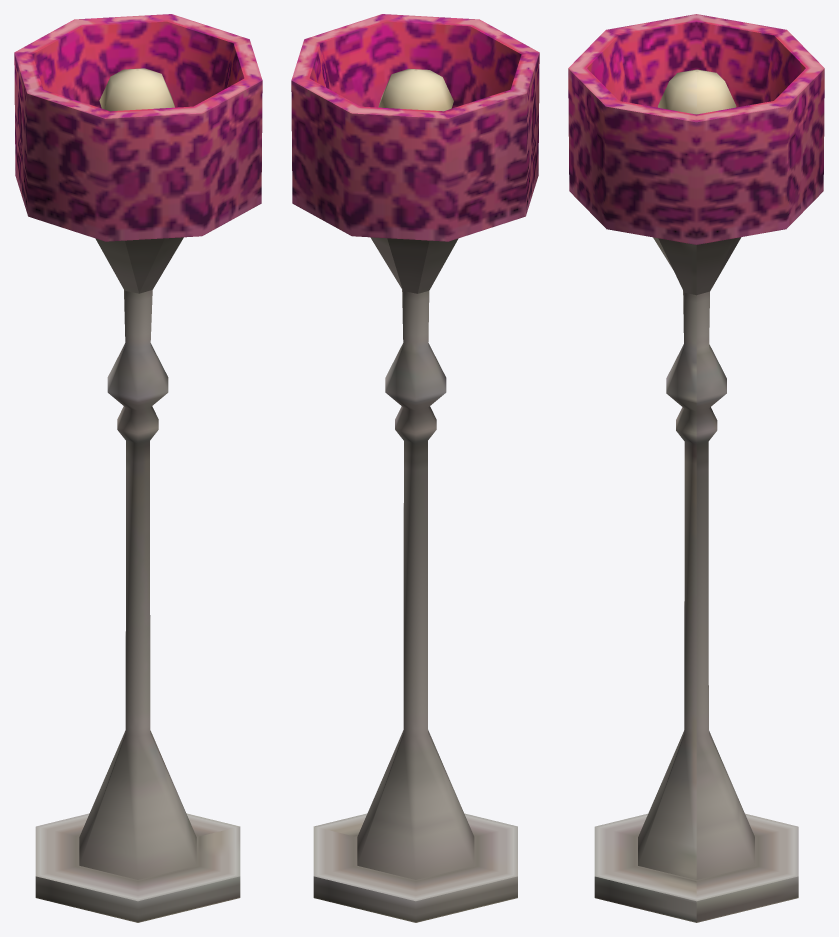
The model's file is furni_0200085_02.FBX.
The picture shows the model from 3 angles, left to right: view 1: azimuth 30°, elevation 25°; view 2: azimuth 150°, elevation 25°; view 3: azimuth 270°, elevation 25°; orthographic projection.
Visible parts, largest first — view 1: furni_0200085_02; view 2: furni_0200085_02; view 3: furni_0200085_02.
Part boxes in pixels (<box>): furni_0200085_02: <box>14,14,262,922</box>; furni_0200085_02: <box>291,14,539,922</box>; furni_0200085_02: <box>568,14,824,922</box>.
Size of the model in its own units: 47.24 by 164 by 47.24.
1 material, 1 textured.
